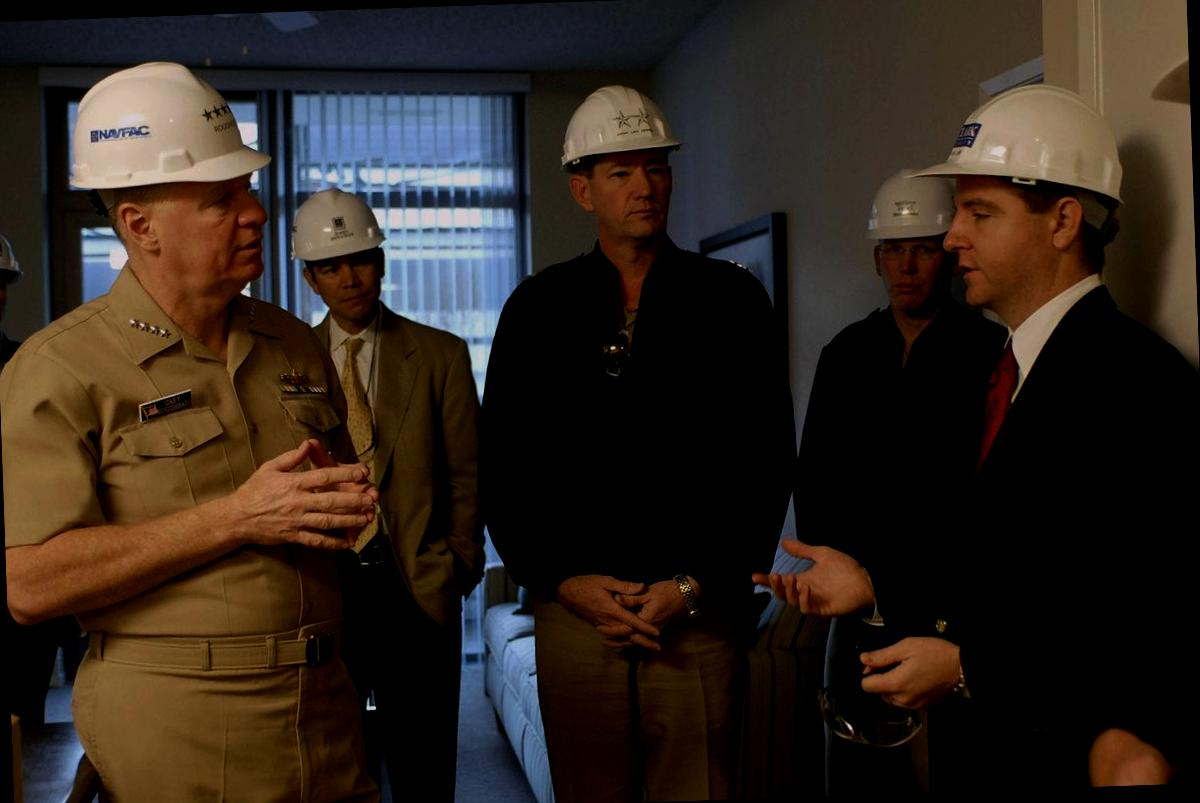helmet: (57, 50, 282, 192), (922, 76, 1122, 194), (550, 72, 680, 168), (861, 154, 950, 248), (286, 179, 391, 257)
no_vest: (28, 296, 346, 640), (506, 242, 765, 582), (968, 319, 1192, 701), (829, 306, 991, 564)
person: (2, 54, 364, 803), (471, 73, 806, 803), (920, 73, 1200, 781), (796, 153, 1020, 796), (275, 171, 499, 803)
